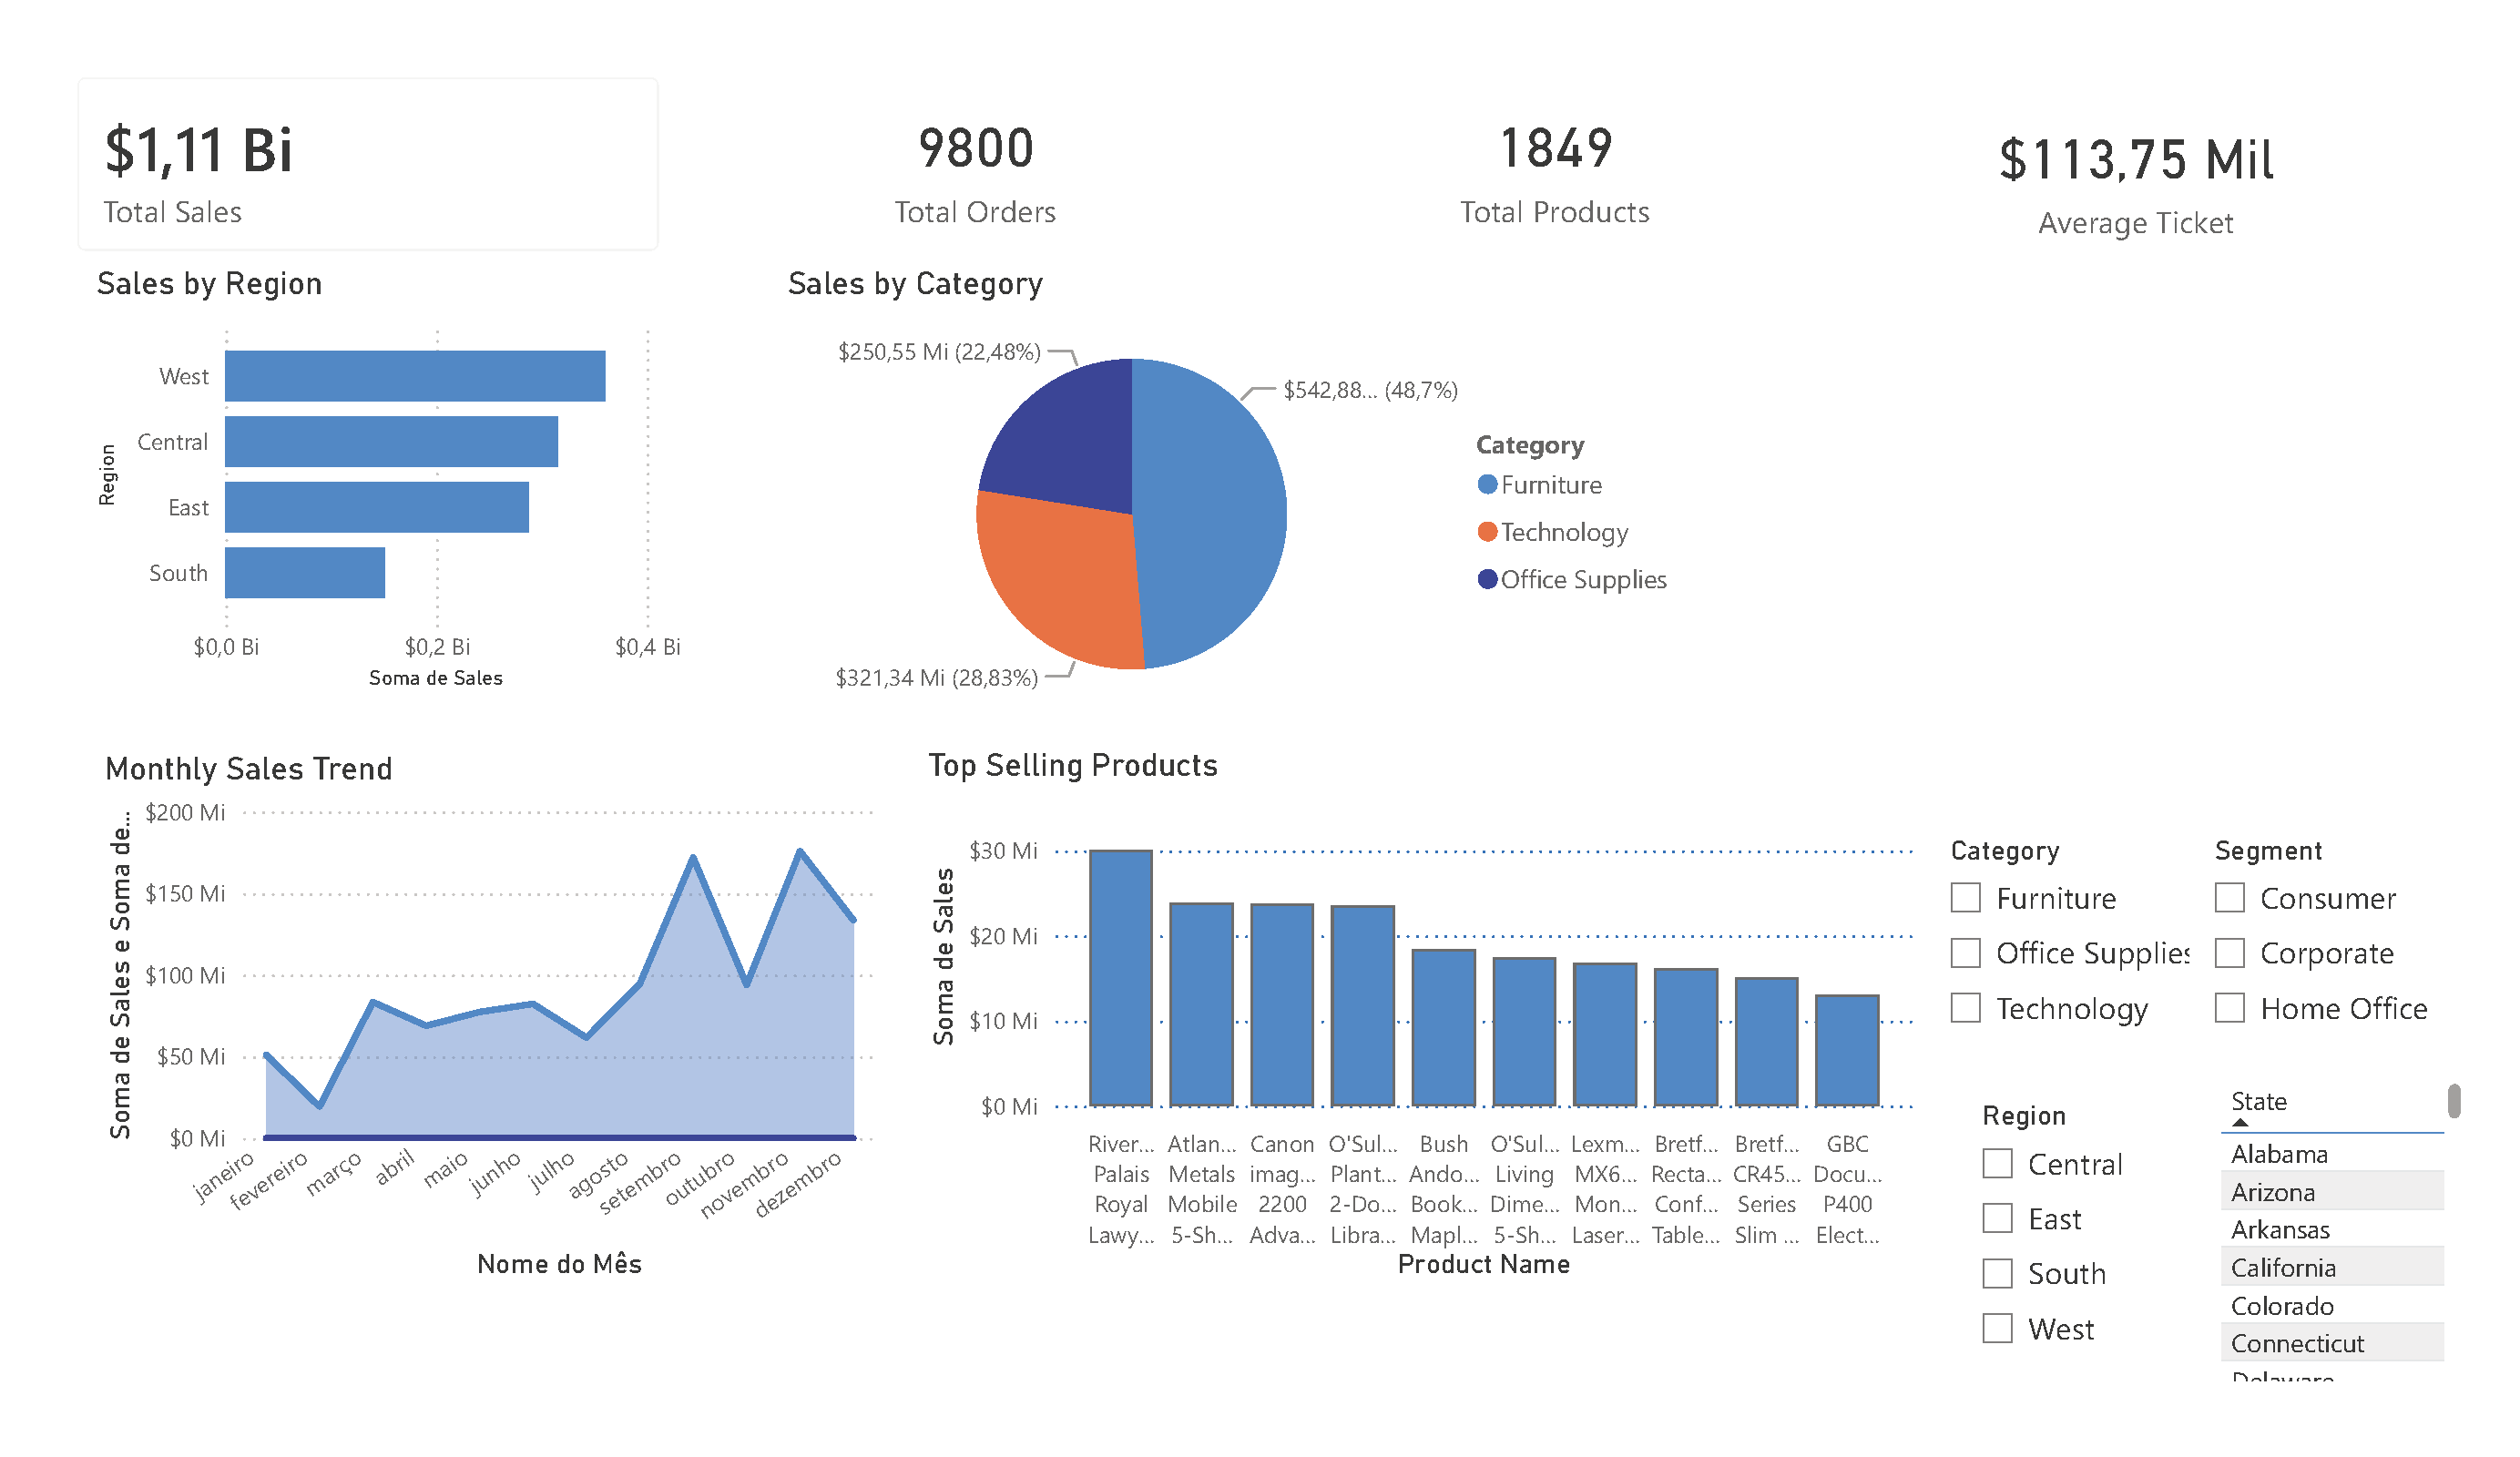

This screenshot's page, from the dashboard's own definition file:
{"tool":"powerbi","page":{"name":"Página 1","canvas":[1280,720],"ordinal":0},"visuals":[{"type":"card","fields":{"Values":["train.Total Products"]},"box":[657.5,0,275.3,125.5],"z":0},{"type":"card","fields":{"Values":["train.Total Orders"]},"box":[340.4,0,299.6,125.5],"z":1000},{"type":"cardVisual","fields":{"Data":["train.Total Sales"]},"box":[0,0,340.4,125.5],"z":2000},{"type":"card","fields":{"Values":["train.Average Ticket"]},"box":[924,0,356,137.1],"z":3000},{"type":"barChart","title":" Sales by Region","fields":{"Category":["train.Region"],"Y":["Sum(train.Sales)"]},"box":[22.4,114.8,318.1,229.5],"z":4000},{"type":"pieChart","title":" Sales by Category","fields":{"Category":["train.Category"],"Y":["Sum(train.Sales)"]},"box":[386.1,114.8,482.4,245.1],"z":5000},{"type":"lineChart","title":"Monthly Sales Trend","fields":{"Category":["train.Nome do Mês"],"Y":["Sum(train.Sales)","Sum(train.Numero Mes)"]},"box":[26.3,370.6,415.3,284],"z":6000},{"type":"columnChart","title":"Top Selling Products","fields":{"Category":["train.Product Name"],"Y":["Sum(train.Sales)"]},"box":[460.1,368.6,529.1,286],"z":7000},{"type":"slicer","fields":{"Values":["train.Region"]},"box":[1007.7,551.5,116.7,146.9],"z":8000},{"type":"slicer","fields":{"Values":["train.Category"]},"box":[991.1,411.4,149.8,129.4],"z":9000},{"type":"slicer","fields":{"Values":["train.Segment"]},"box":[1130.2,411.4,149.8,120.6],"z":9001},{"type":"tableEx","fields":{"Values":["train.State"]},"box":[1140.9,540.8,138.1,168.3],"z":9003}]}

Visuals, with their boxes on the page's 1280x720 design canvas (x1, y1, x2, y2). These are canvas units, not pixel positions in the 2520x1457 screenshot, which may show the page scaled, cropped or inside an application window:
card - train.Total Products: select_region(658, 0, 933, 126)
card - train.Total Orders: select_region(340, 0, 640, 126)
cardVisual - train.Total Sales: select_region(0, 0, 340, 126)
card - train.Average Ticket: select_region(924, 0, 1280, 137)
" Sales by Region" barChart: select_region(22, 115, 340, 344)
" Sales by Category" pieChart: select_region(386, 115, 868, 360)
"Monthly Sales Trend" lineChart: select_region(26, 371, 442, 655)
"Top Selling Products" columnChart: select_region(460, 369, 989, 655)
slicer - train.Region: select_region(1008, 552, 1124, 698)
slicer - train.Category: select_region(991, 411, 1141, 541)
slicer - train.Segment: select_region(1130, 411, 1280, 532)
tableEx - train.State: select_region(1141, 541, 1279, 709)
